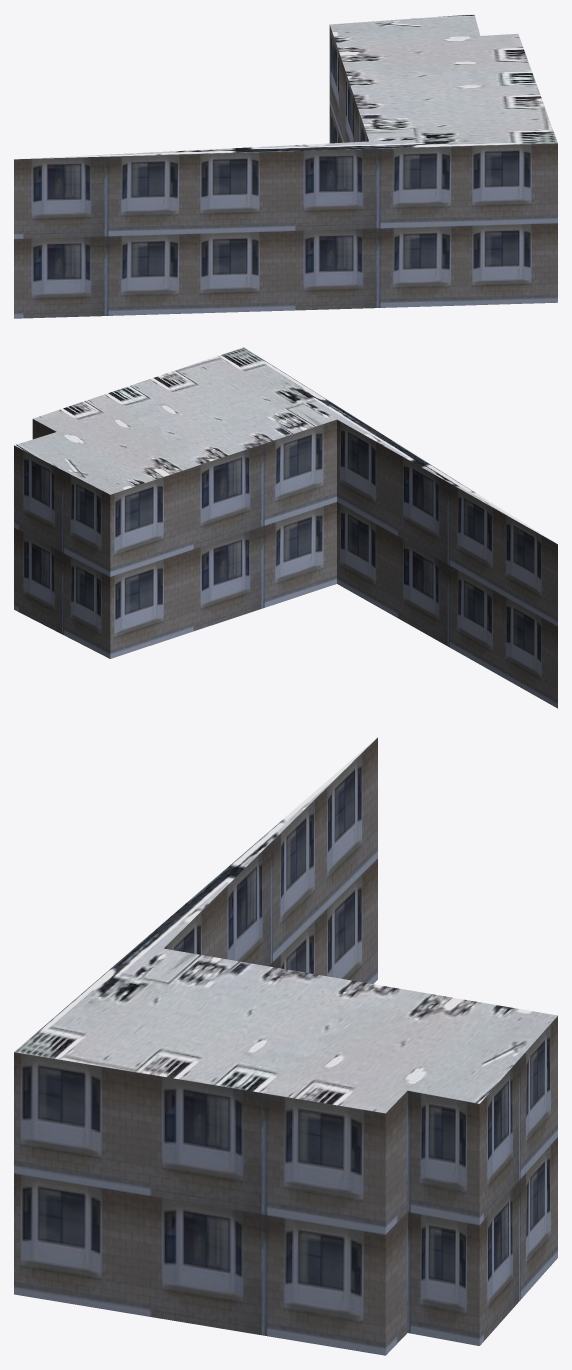
The model's file is ResTex__3468.fbx.
The picture shows the model from 3 angles, top to bottom: view 1: azimuth 30°, elevation 25°; view 2: azimuth 150°, elevation 25°; view 3: azimuth 270°, elevation 25°; orthographic projection. The views are drawn at different scales.
Parts seen in each view (by area): view 1: CityEngineMaterial_3_m, CityEngineMaterial_m; view 2: CityEngineMaterial_3_m, CityEngineMaterial_m; view 3: CityEngineMaterial_3_m, CityEngineMaterial_m.
Part boxes in pixels (x1,y1,x2,y2): CityEngineMaterial_3_m: (14, 25, 557, 318); CityEngineMaterial_m: (17, 14, 557, 159); CityEngineMaterial_3_m: (14, 419, 557, 708); CityEngineMaterial_m: (14, 347, 554, 542); CityEngineMaterial_3_m: (14, 737, 557, 1355); CityEngineMaterial_m: (14, 738, 557, 1113).
Size of the model in its own units: 19.97 by 6 by 12.21.
Materials: 2 (2 with a texture image).
